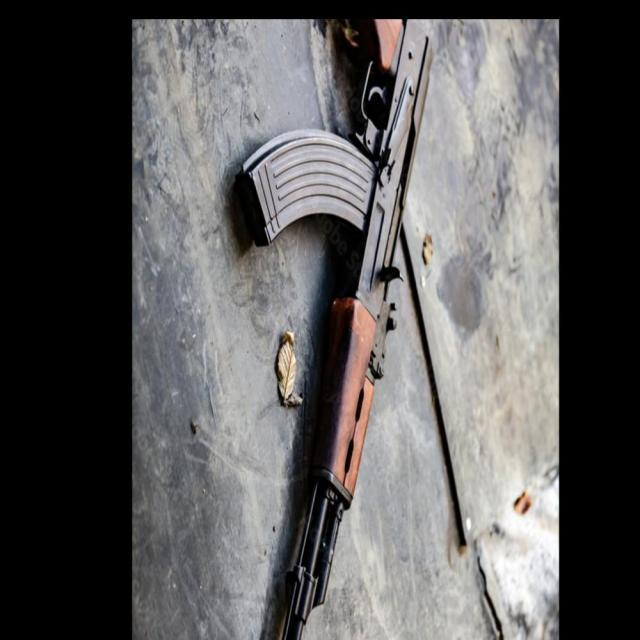weapon: (236, 17, 434, 640)
